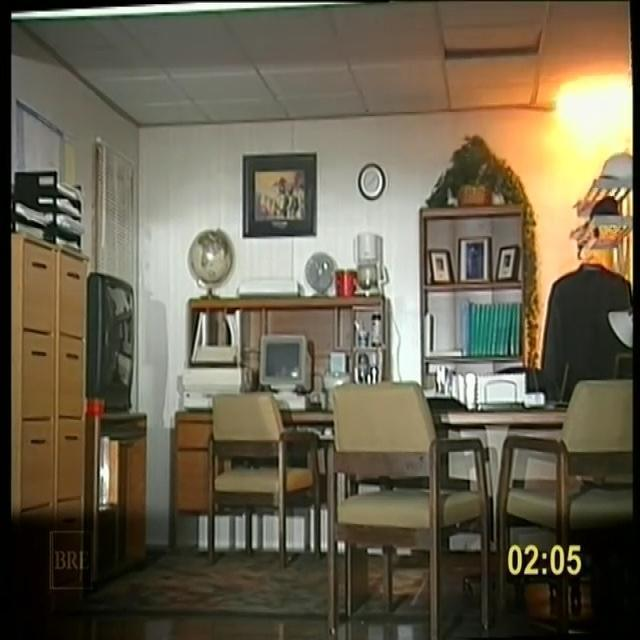Fire: (513, 53, 640, 245)
